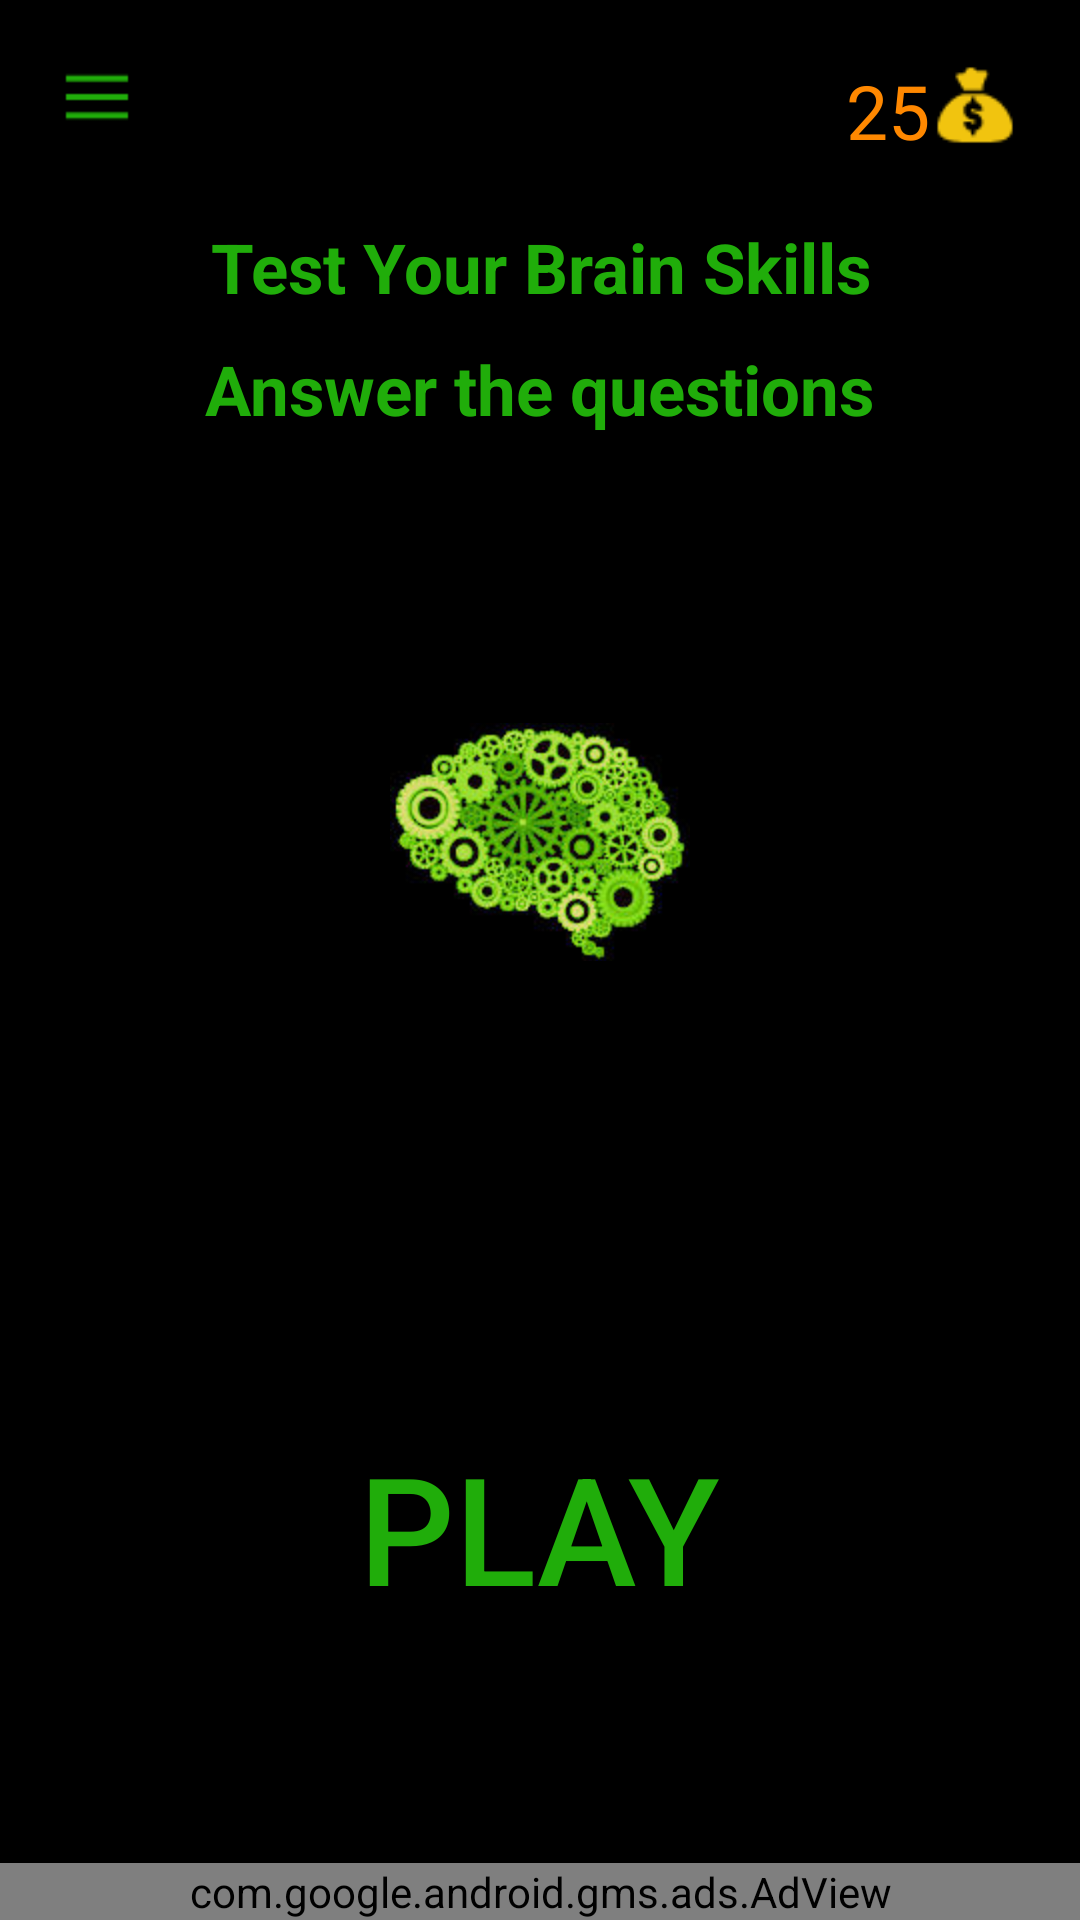

Icons on this 1080x1920 Android screen, each with its box as [x1=x1, y1=y1, x2=x2, y2=y2]:
mainbraindark: [x1=392, y1=723, x2=688, y2=961]
menu: [x1=65, y1=74, x2=129, y2=120]
moneyyellow: [x1=937, y1=67, x2=1013, y2=143]
